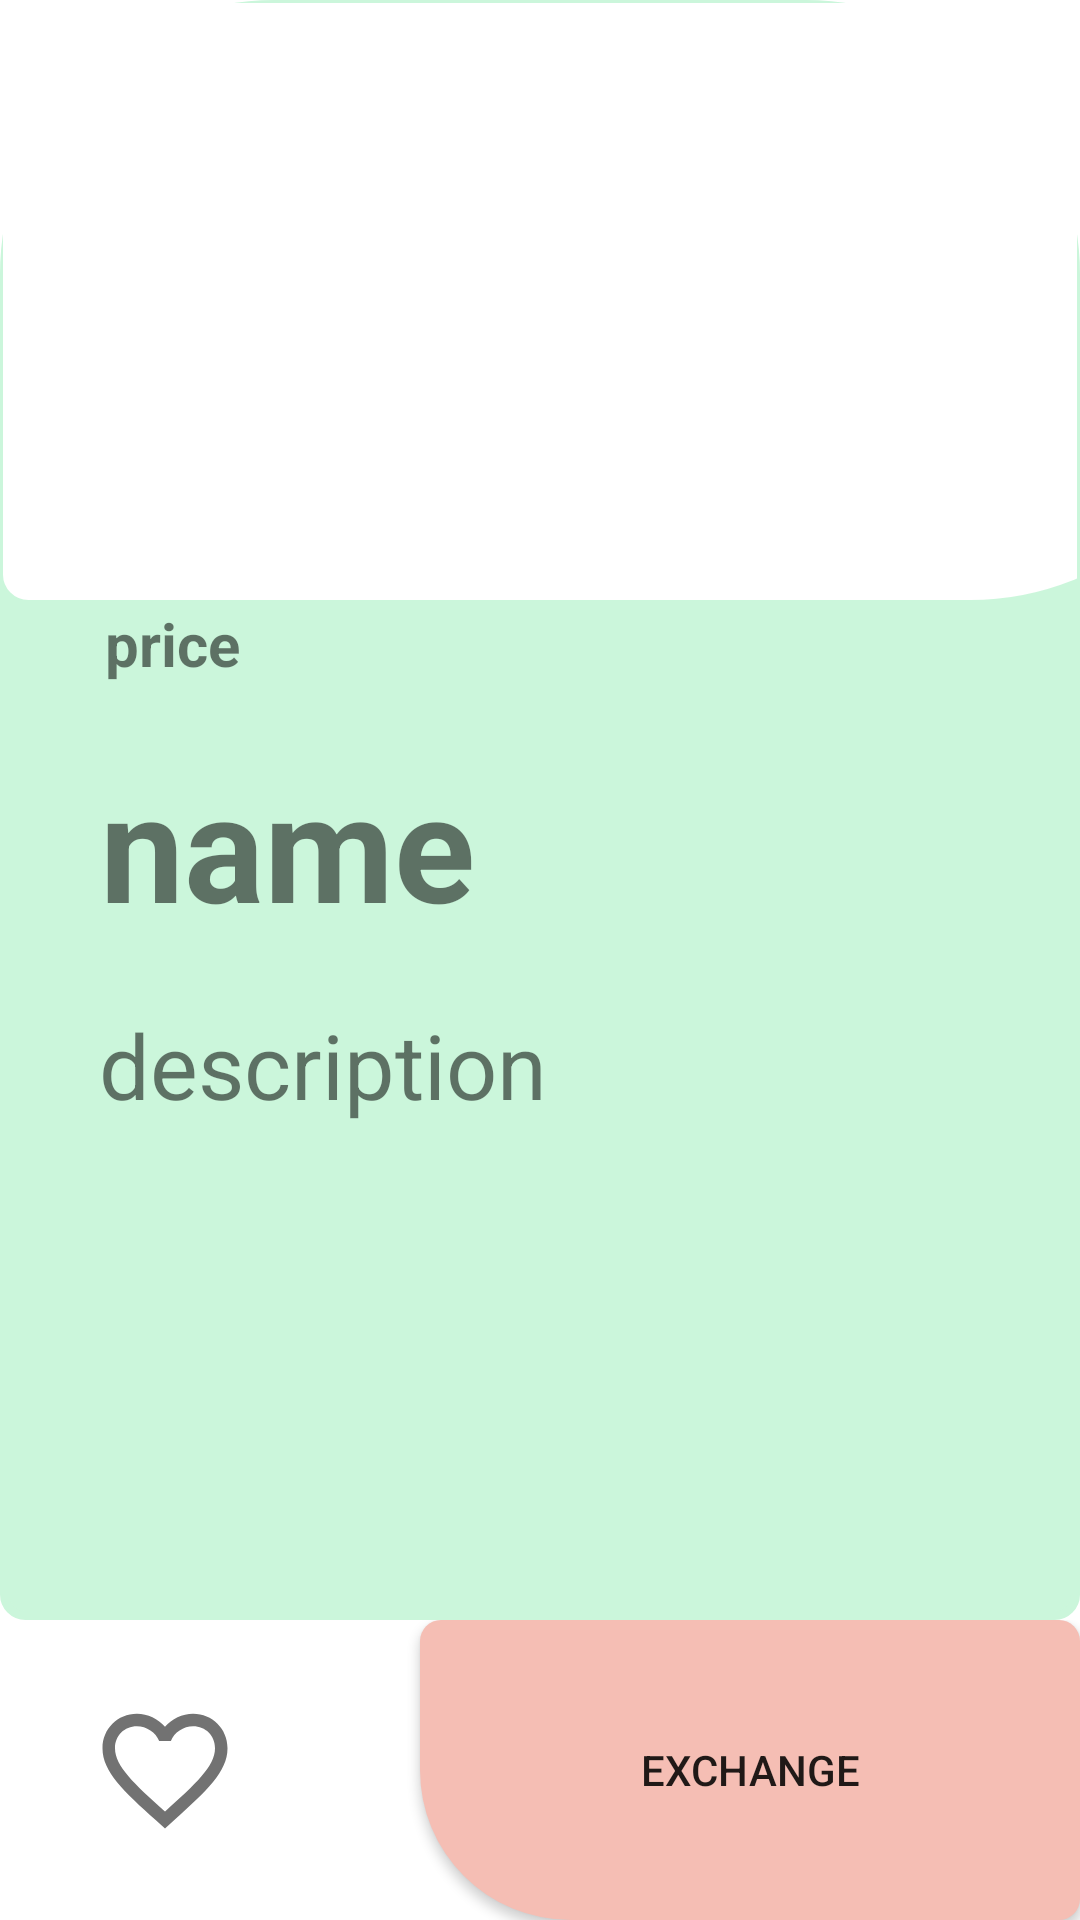

Screen size 1080 x 1920. Icon name, then its center in pixels as (x,y):
wishlist: (165,1770)
